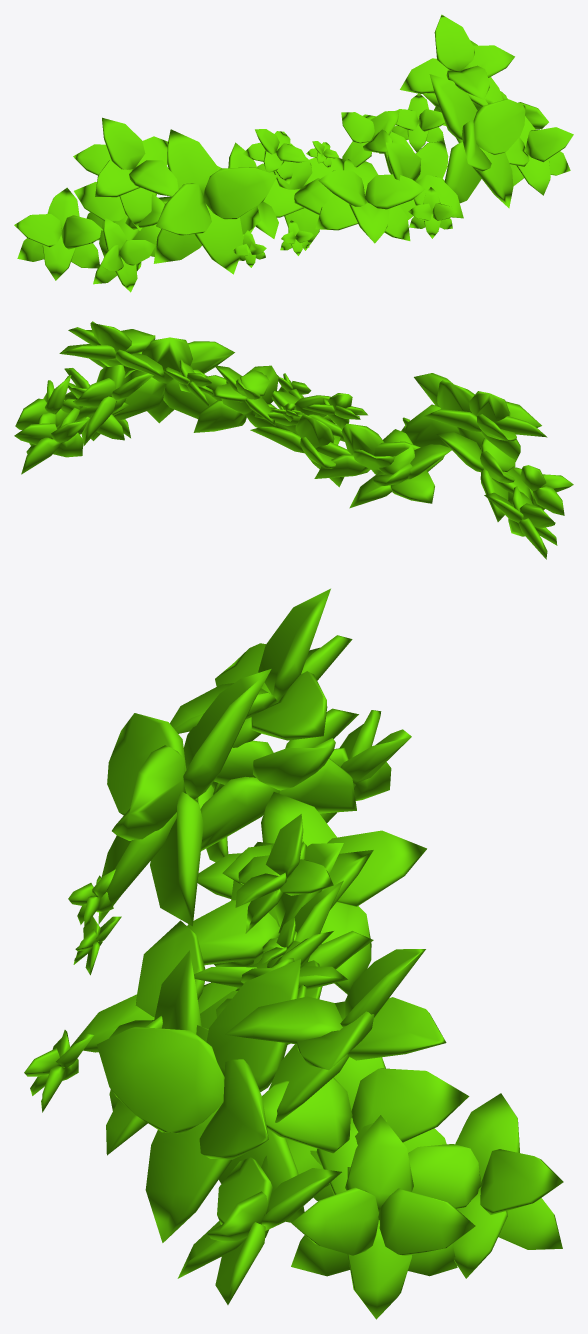
Rendered from ivy2.fbx.
The picture shows the model from 3 angles, top to bottom: view 1: azimuth 30°, elevation 25°; view 2: azimuth 150°, elevation 25°; view 3: azimuth 270°, elevation 25°; orthographic projection. The views are drawn at different scales.
Visible parts, largest first — view 1: ivy2; view 2: ivy2; view 3: ivy2.
Boxes of the visible parts, box(x1,y1,x2,y2) form: ivy2: box(14, 14, 573, 292); ivy2: box(14, 321, 573, 559); ivy2: box(24, 588, 563, 1319).
Size of the model in its own units: 1178 by 337 by 530.
